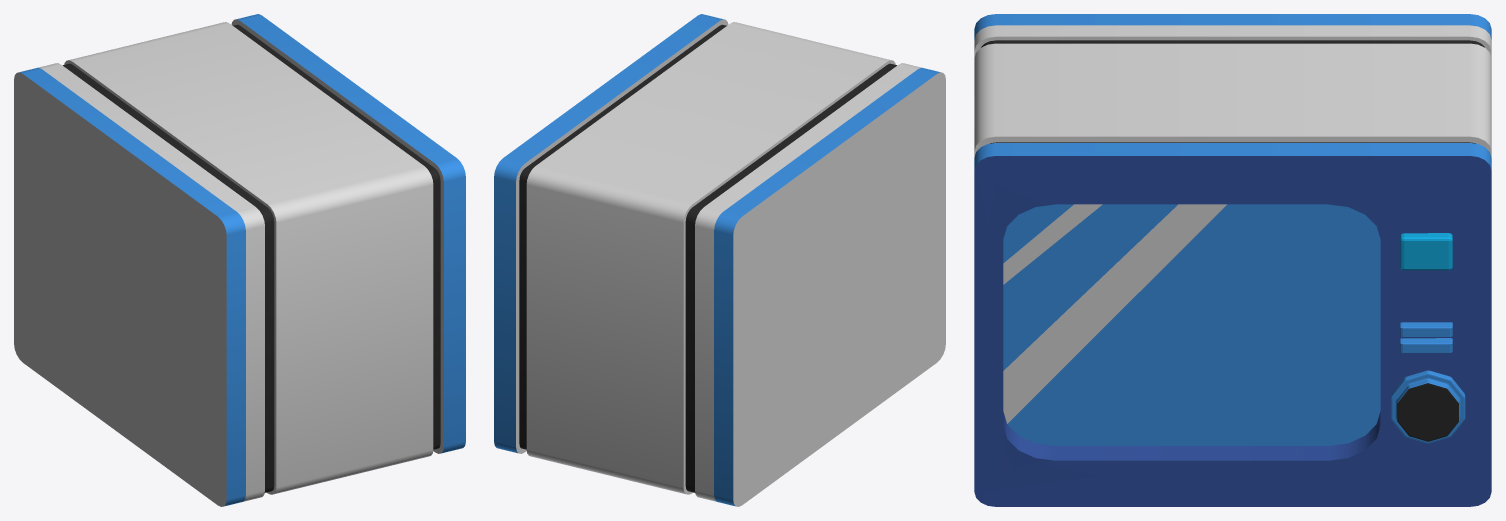
File: microwave.fbx
3 renders of one model, left to right at view 1: azimuth 30°, elevation 25°; view 2: azimuth 150°, elevation 25°; view 3: azimuth 270°, elevation 25°, orthographic. The views are drawn at different scales.
Parts seen in each view (by area): view 1: Cube.002; view 2: Cube.002; view 3: Cube.002.
Part boxes in pixels (x1,y1,x2,y2): Cube.002: (14, 14, 465, 506); Cube.002: (494, 14, 945, 506); Cube.002: (974, 14, 1491, 506).
Size of the model in its own units: 89.83 by 67.3 by 61.29.
